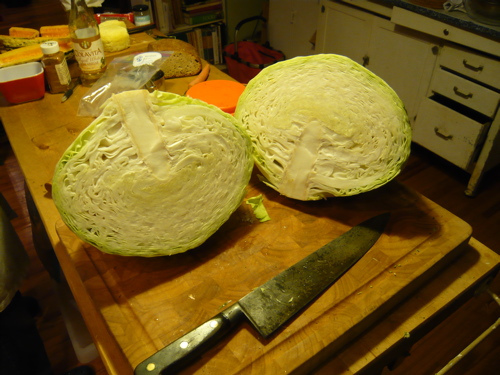cabbage: (51, 89, 255, 258), (234, 50, 409, 203)
